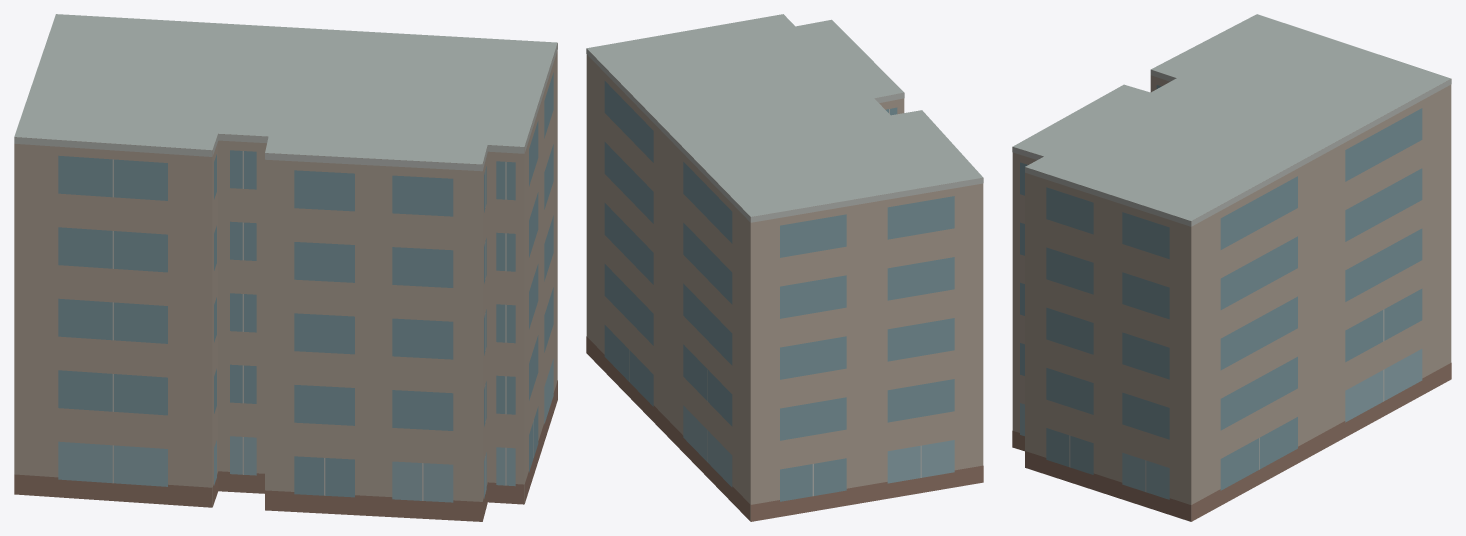
The model's file is survey-upis-32657020.glb.
3 renders of one model, left to right at view 1: azimuth 30°, elevation 25°; view 2: azimuth 150°, elevation 25°; view 3: azimuth 270°, elevation 25°, orthographic. The views are drawn at different scales.
Visible parts, largest first — view 1: survey-upis-32657020.tmp; view 2: survey-upis-32657020.tmp; view 3: survey-upis-32657020.tmp.
Boxes of the visible parts, x1,y1,x2,y2 form: survey-upis-32657020.tmp: [14, 14, 557, 521]; survey-upis-32657020.tmp: [586, 14, 983, 521]; survey-upis-32657020.tmp: [1012, 14, 1451, 521].
Size of the model in its own units: 18.91 by 12.8 by 16.94.
